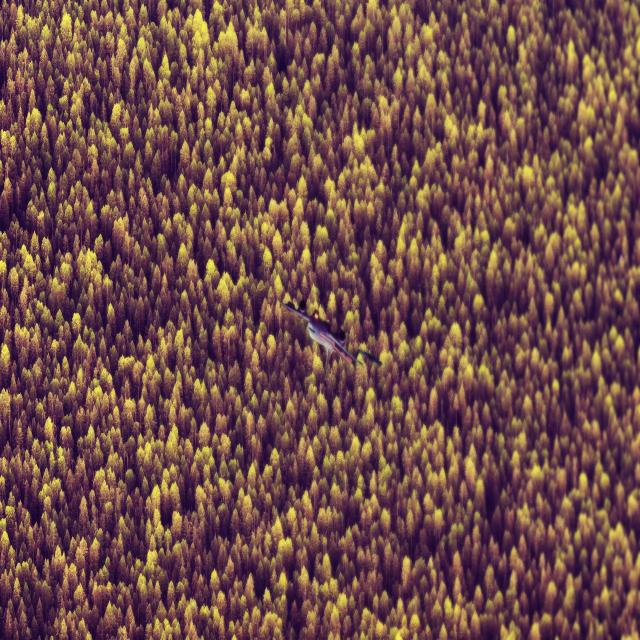airplane: (281, 300, 382, 372)
